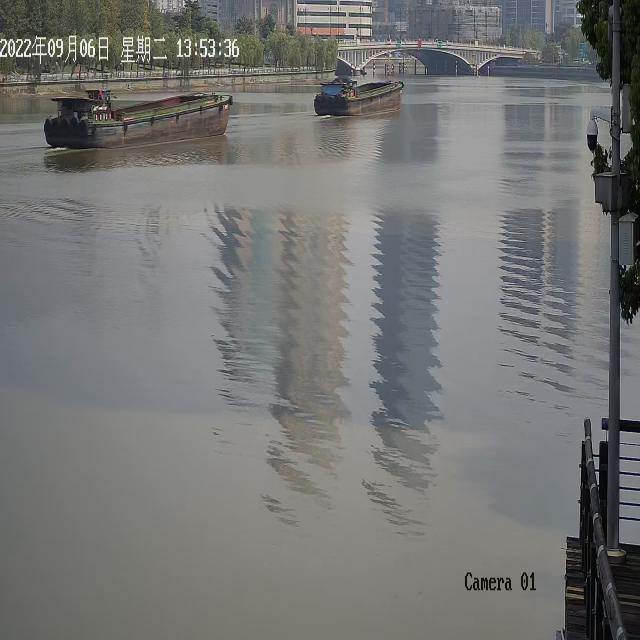ship: (44, 88, 232, 148), (314, 80, 404, 115), (359, 68, 366, 74)
